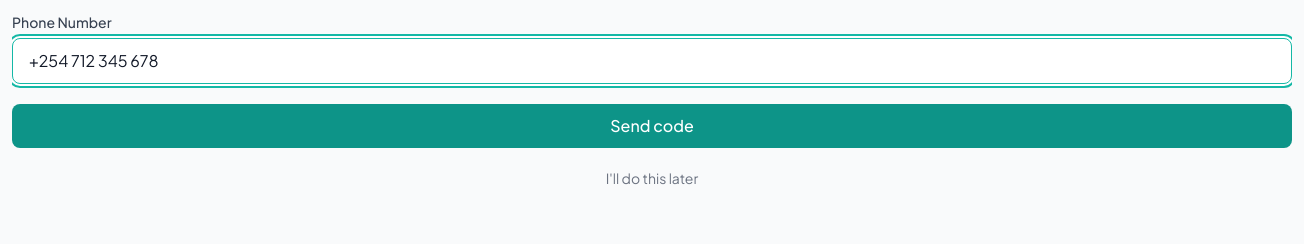
it: the resend control › is not offered while the countdown is running
Click the button "Send code".
click(652, 126)  # box [12,104,1292,148]
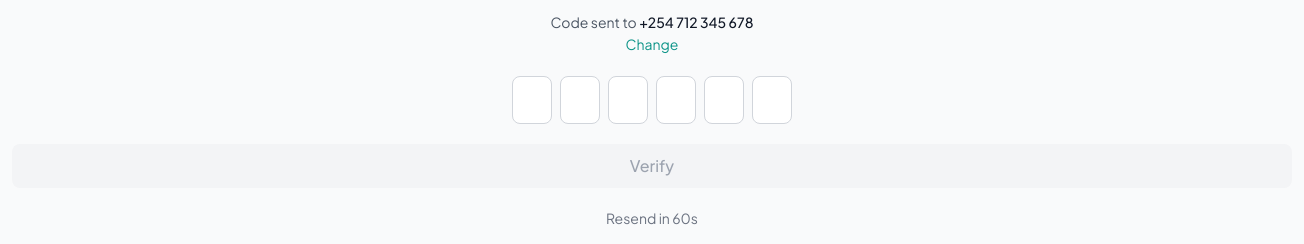
Now the text "Resend in 60s" is shown, box [606,209,698,227]
